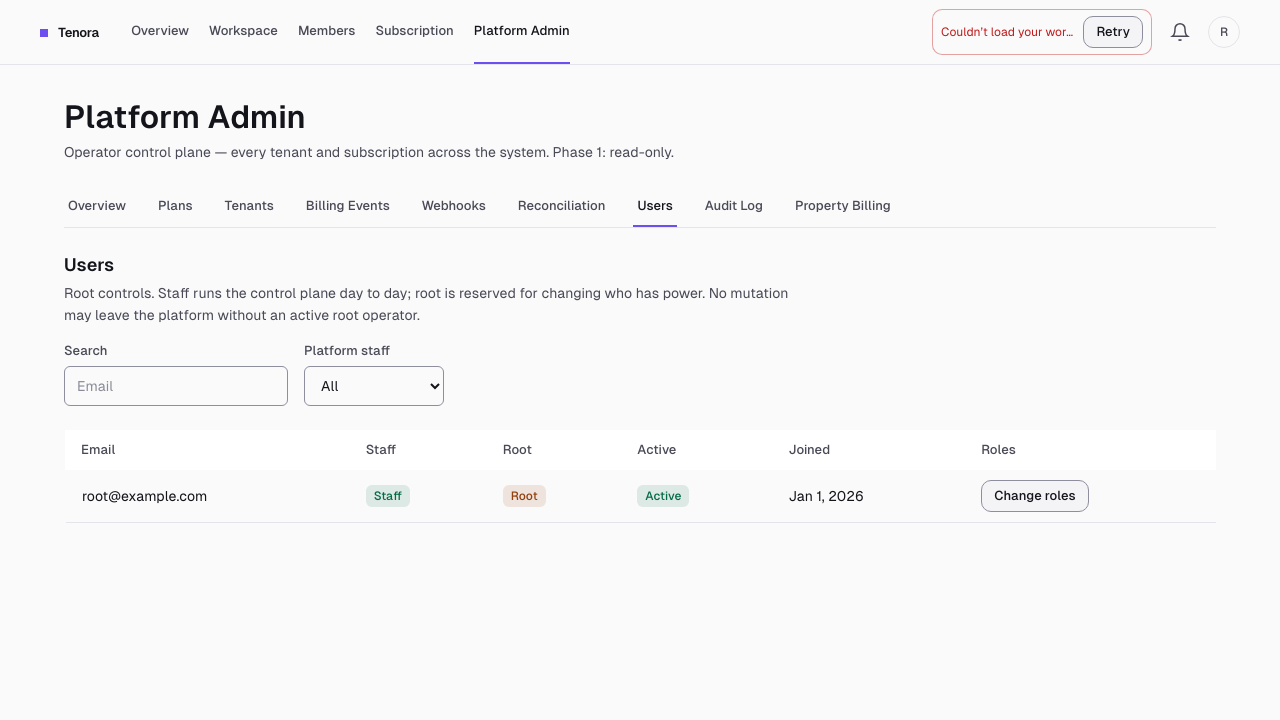
/admin/users — role controls (Root tier) › refuses, in the dialog, a change that would remove the last root
Click the button "Change roles".
click(1035, 496)  # box [981, 480, 1089, 512]
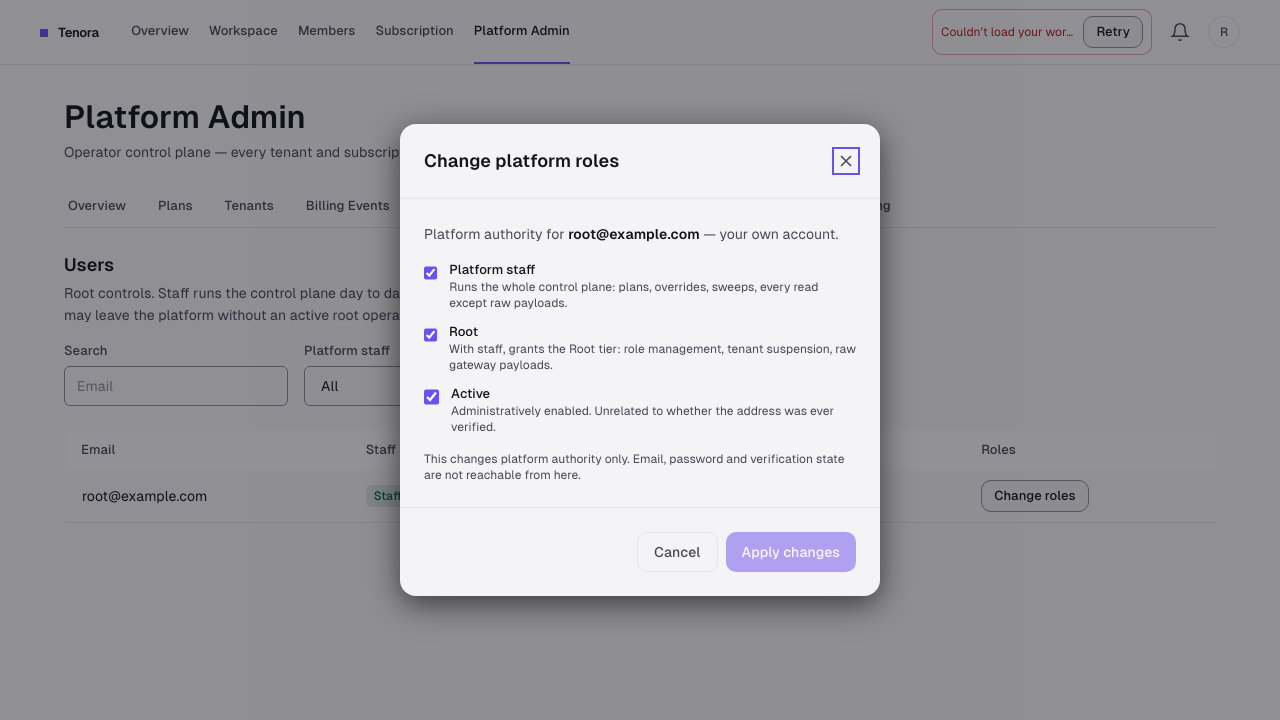
Check: the dialog is shown, box [400, 124, 880, 596]
Click the checkbox labelled "Root".
click(430, 335)  # box [424, 327, 437, 343]
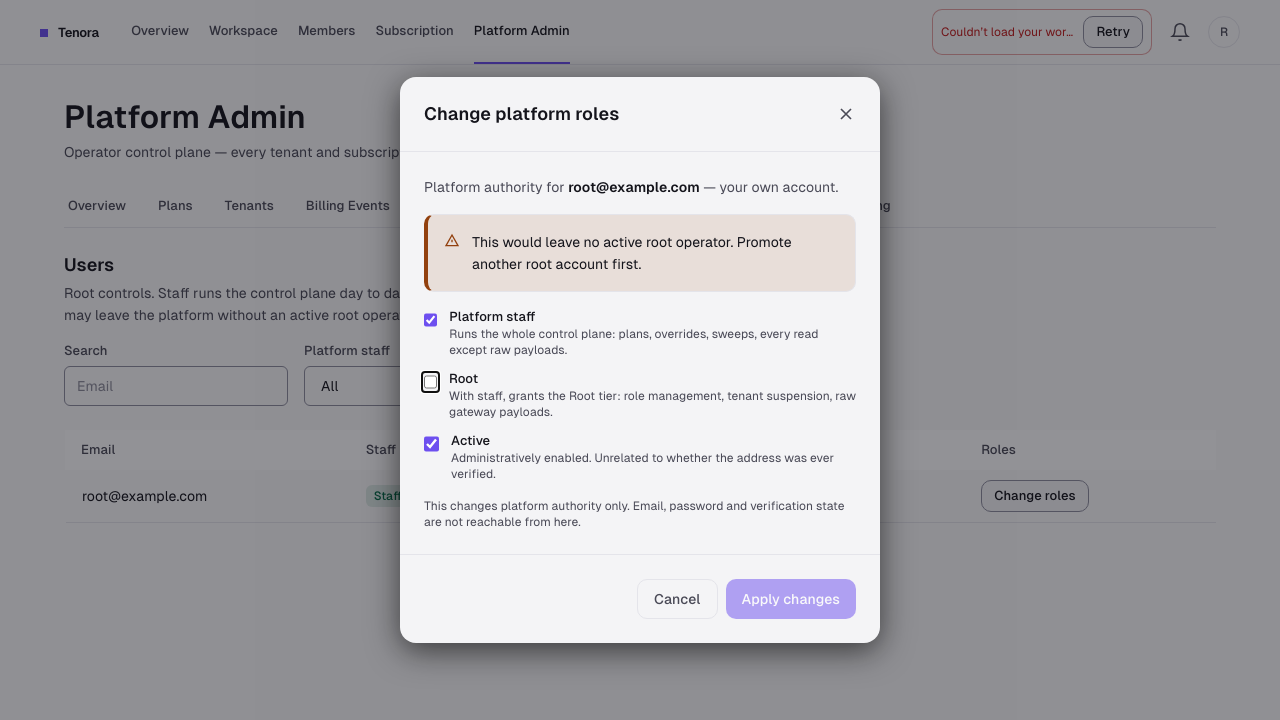
Check: the button "Apply changes" is disabled, box [726, 579, 856, 619]
Check: the text "would leave no active root operator" is shown, box [472, 234, 792, 272]
